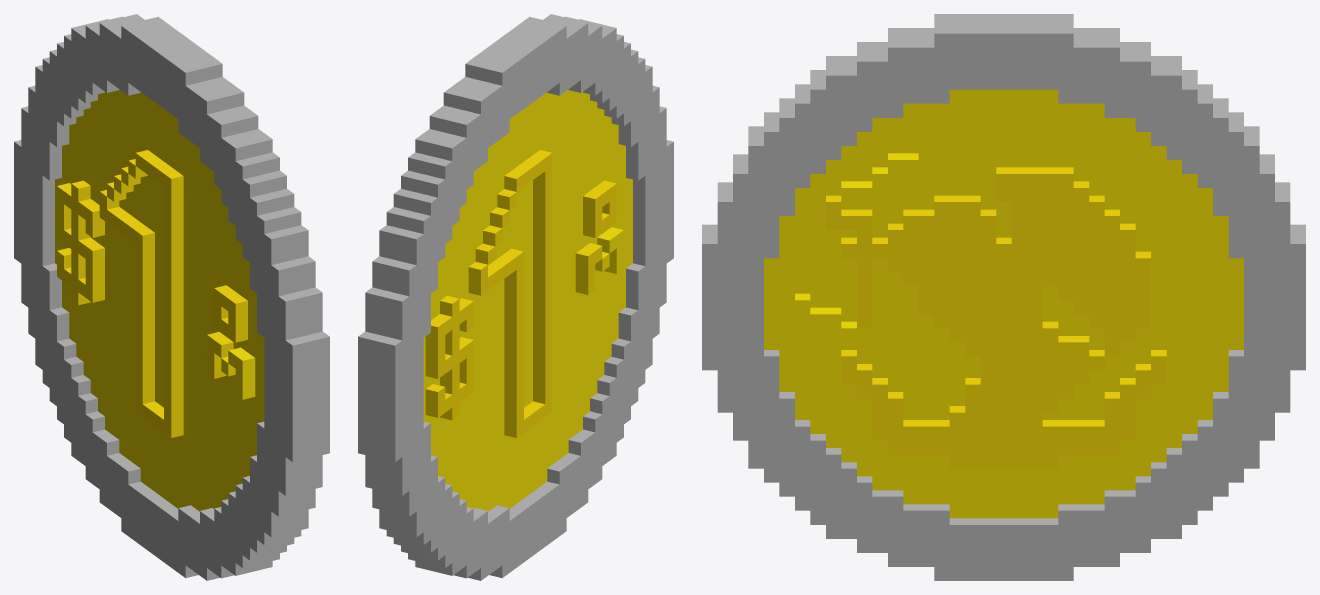
The model's file is moneda1peso (1).fbx.
3 renders of one model, left to right at view 1: azimuth 30°, elevation 25°; view 2: azimuth 150°, elevation 25°; view 3: azimuth 270°, elevation 25°, orthographic. The views are drawn at different scales.
Visible parts, largest first — view 1: Cubo.725; view 2: Cubo.725; view 3: Cubo.725.
Boxes of the visible parts, left/top/right/bottom form: Cubo.725: left=14, top=14, right=329, bottom=580; Cubo.725: left=358, top=14, right=673, bottom=580; Cubo.725: left=702, top=14, right=1305, bottom=580.
Size of the model in its own units: 3900 by 3900 by 300.
